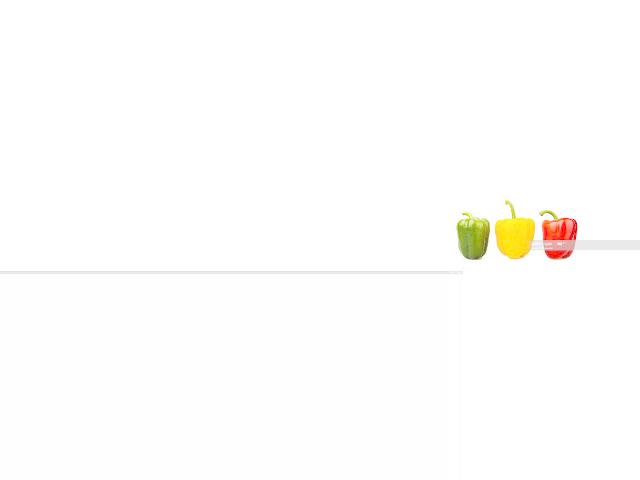bell_pepper: (452, 205, 488, 263)
